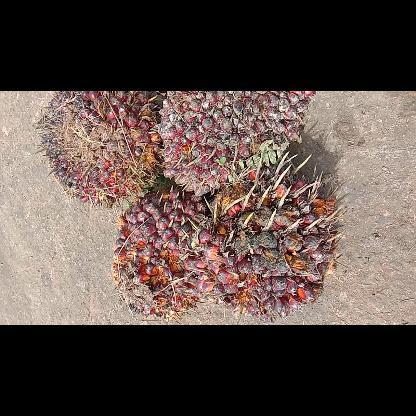Kurang masak: (154, 92, 320, 198), (34, 91, 164, 211)
TBS masak: (196, 169, 346, 321), (110, 186, 216, 320)
